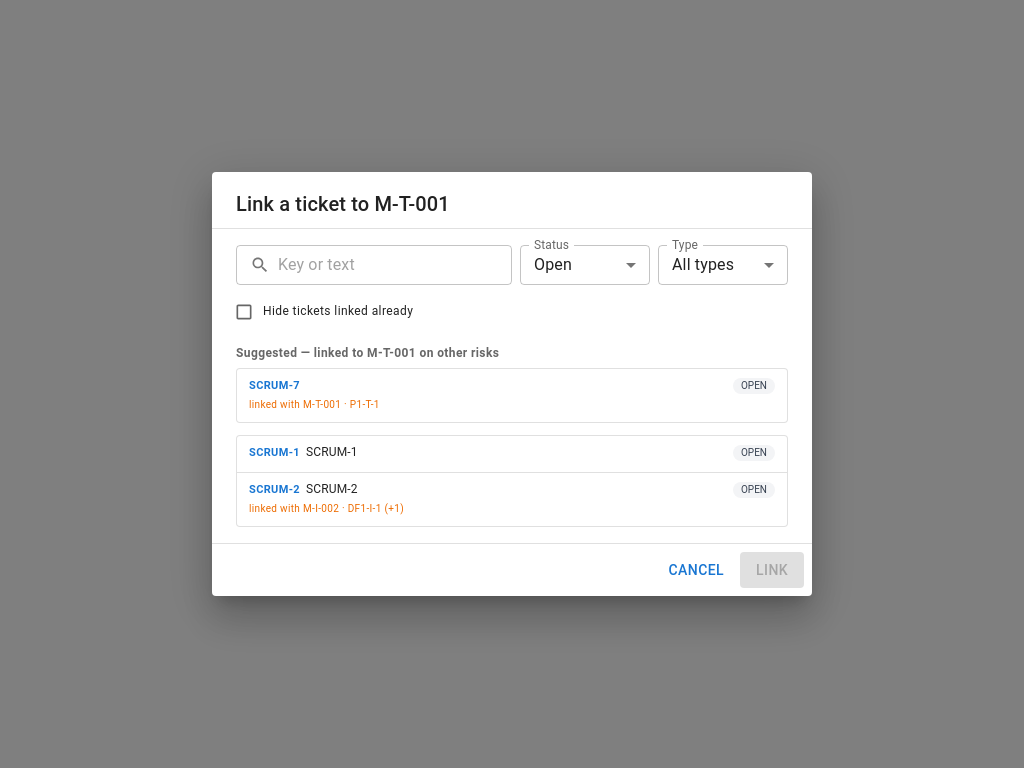
Test: ticket link dialog (IT-13) › suggests the same mitigation's ticket; linked tickets are marked, after the free ones, hidden on request
Check: the text "SCRUM-7" is shown, box [249,377,300,395]
Check: the text with test id "linked-SCRUM-2" reads "linked with M-I-002 · DF1-I-1 (+1)", box [249,503,404,514]
What coordinates should you click on to do the following:
click the element with test id "ticket-link-hide-linked"
I would click on:
 (244, 312)
Its box is [234,302,254,322].
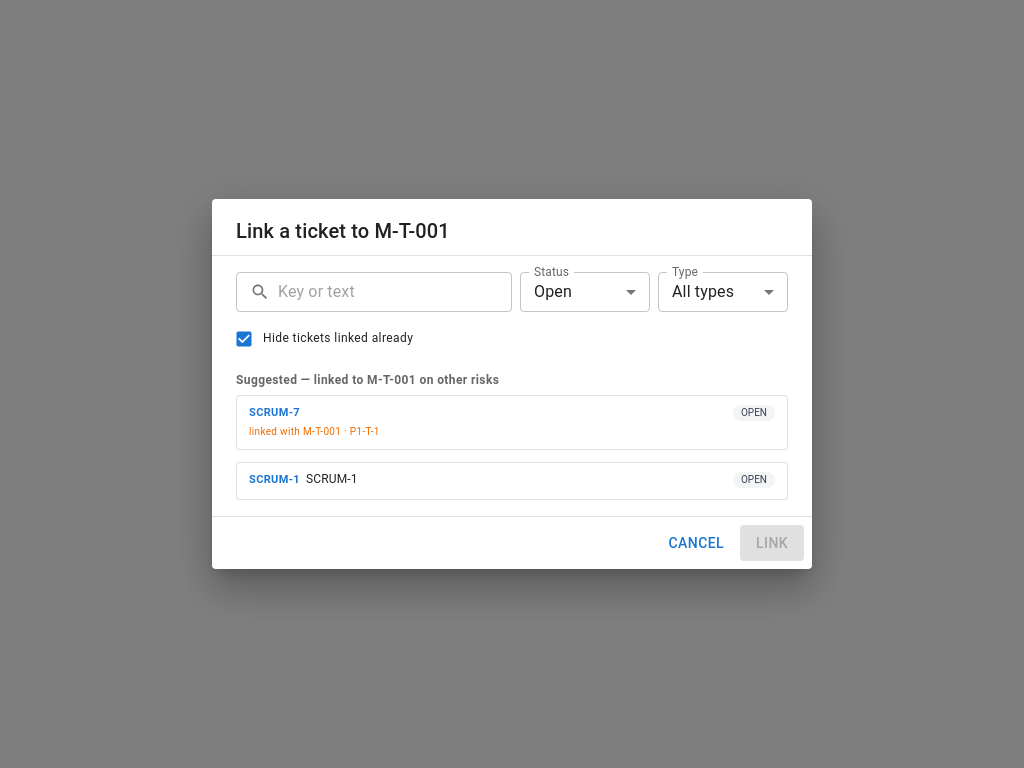
Check: the element with test id "ticket-SCRUM-2" is gone
